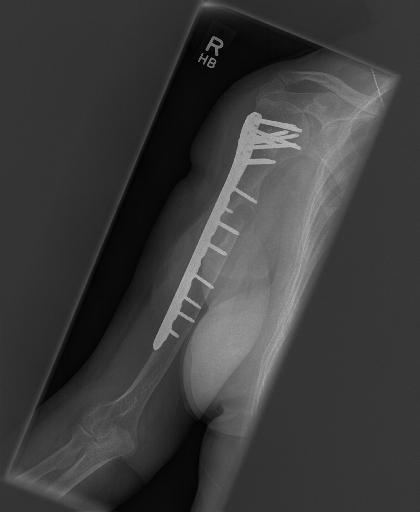implant: (153, 110, 303, 350)
